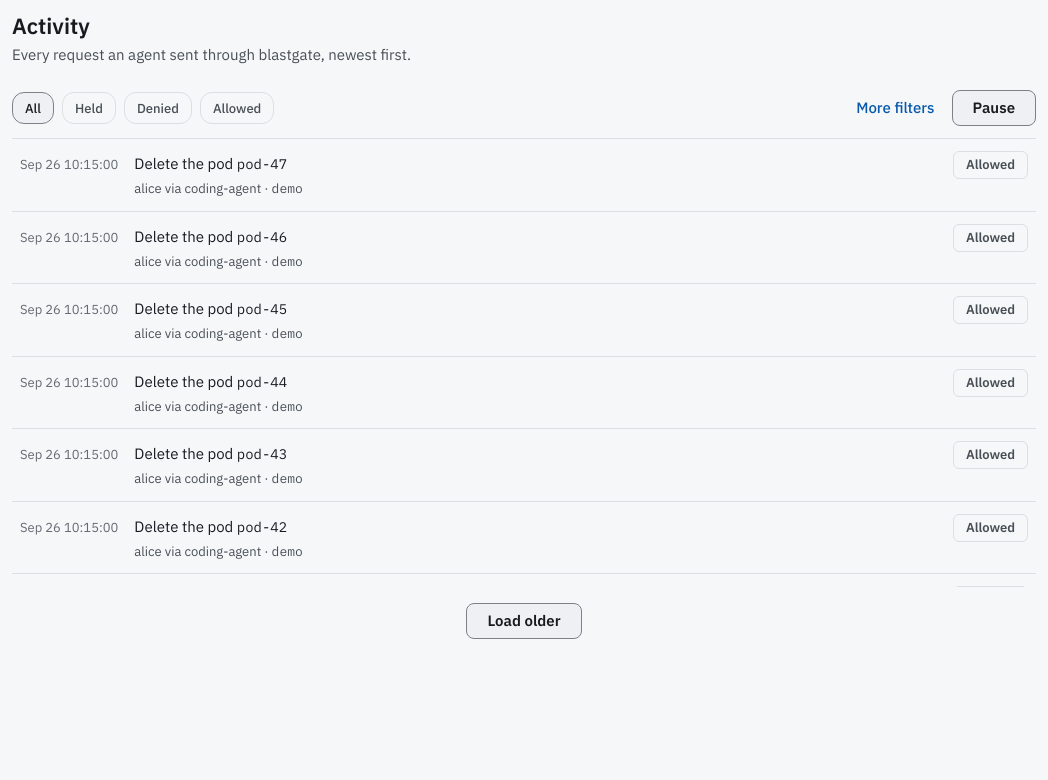
Scenario: Activity › renders rows, filters by agent and human, and loads older
Click the button "Load older". click: (524, 621)
box: left=466, top=603, right=582, bottom=639
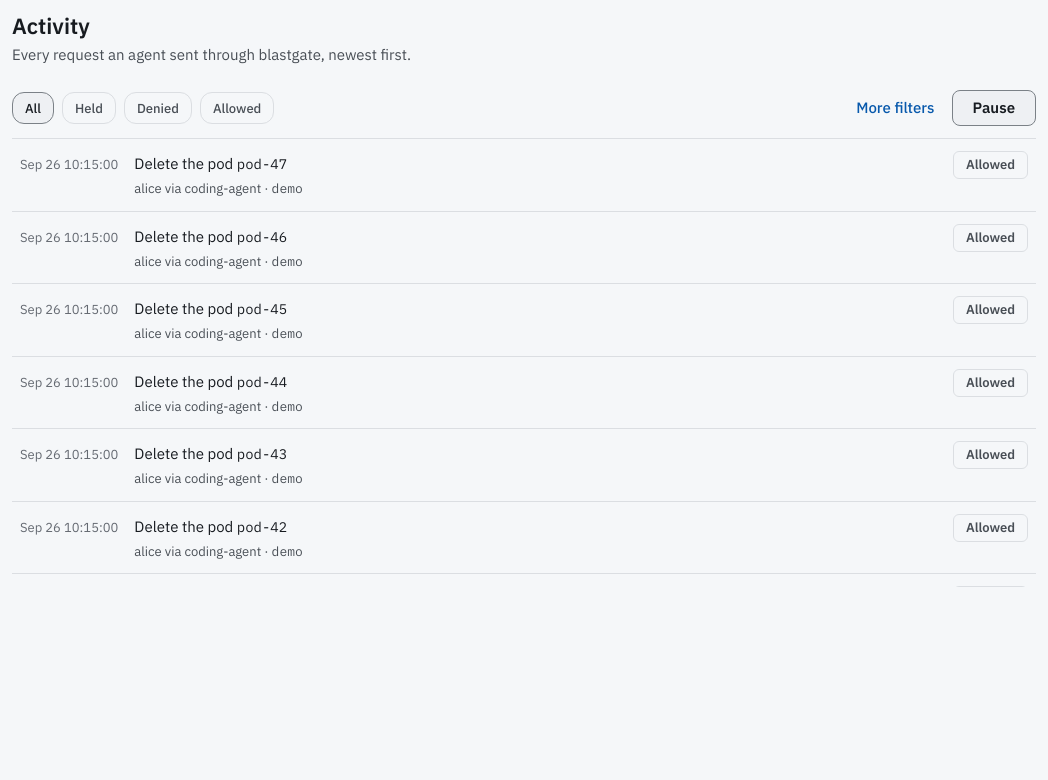
Click the button "More filters". click: (895, 108)
box: left=847, top=90, right=944, bottom=126
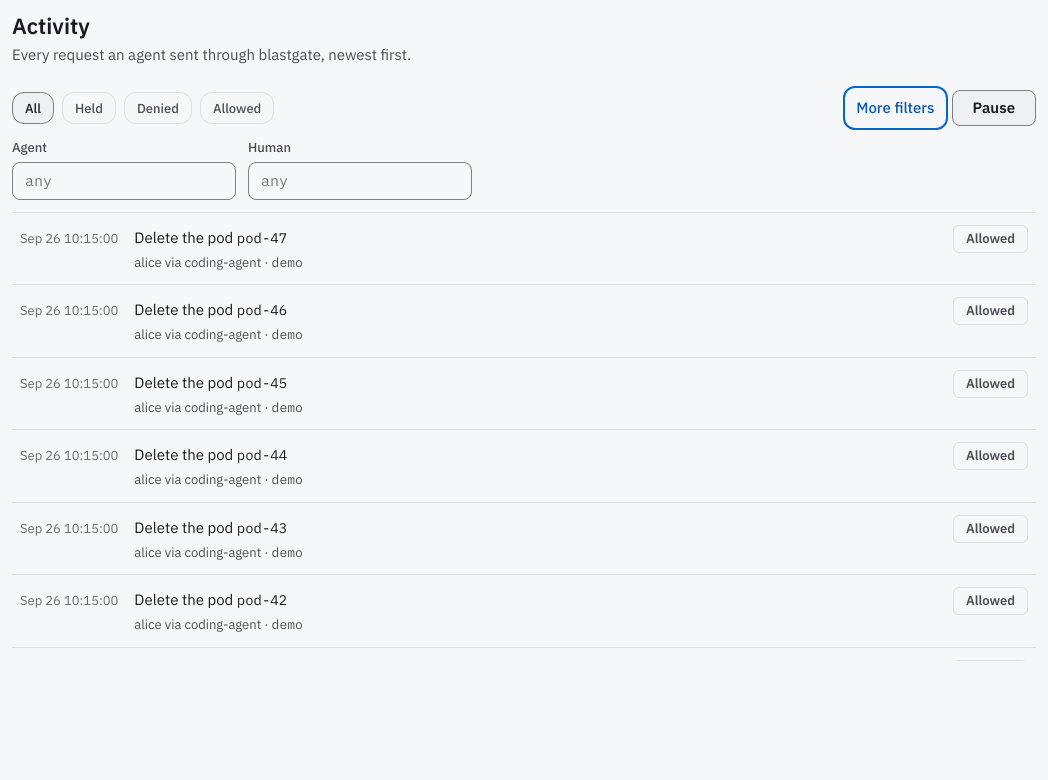
Type "bob" into the field labelled "Human". click: (360, 180)
box: left=248, top=162, right=472, bottom=200
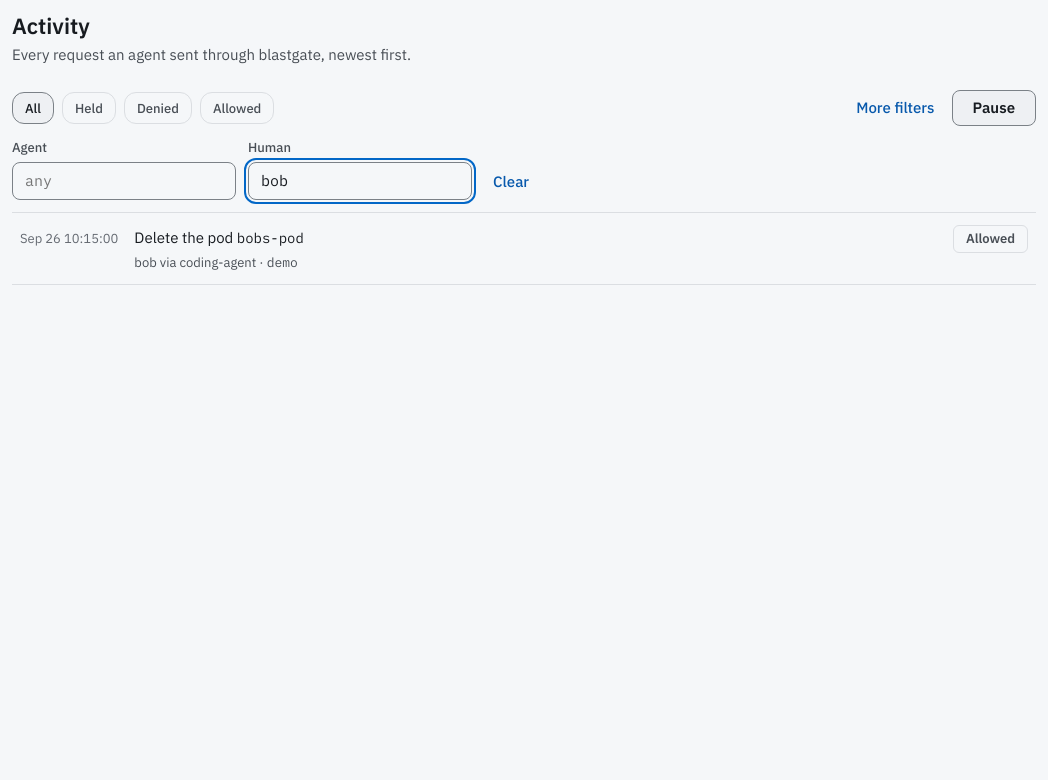
Now the text "bobs-pod" is shown, box left=237, top=228, right=304, bottom=246
Type "coding-agent" into the field labelled "Agent". click: (124, 180)
box: left=12, top=162, right=236, bottom=200
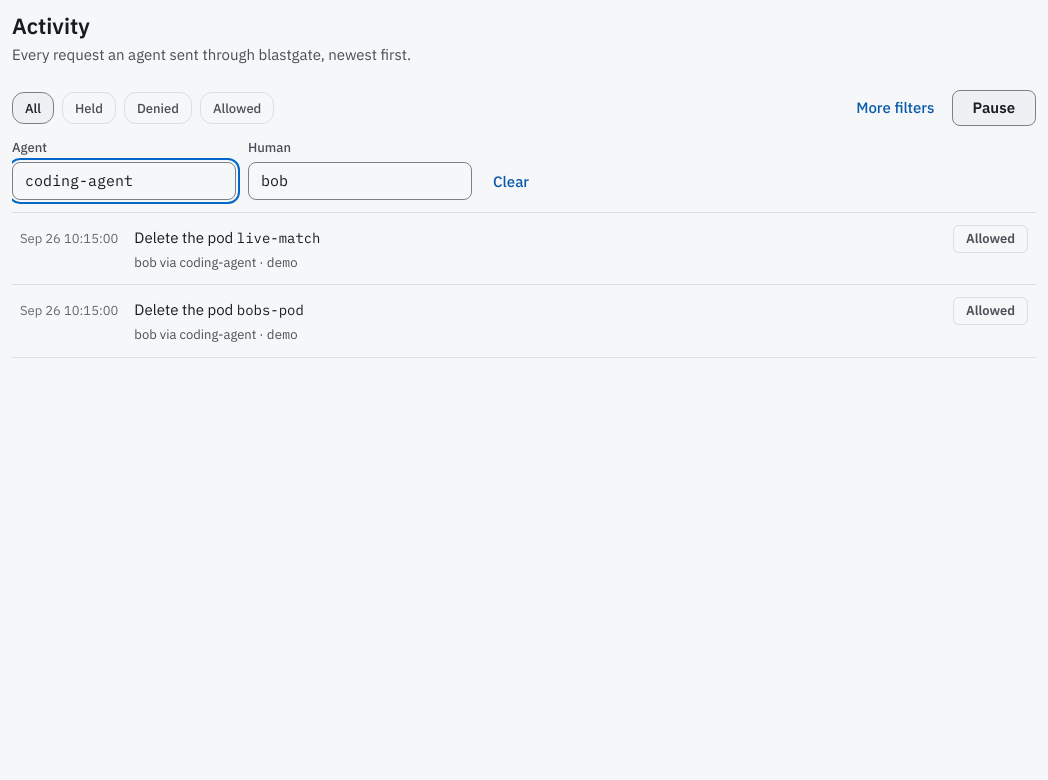
Now the text "live-match" is shown, box left=237, top=228, right=320, bottom=246
